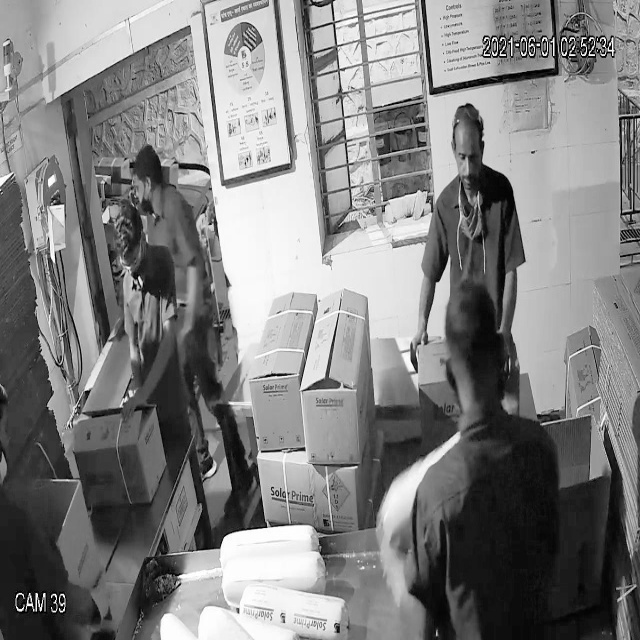Gafas: (115, 243, 147, 276)
Sin_gafas: (445, 138, 489, 171)
